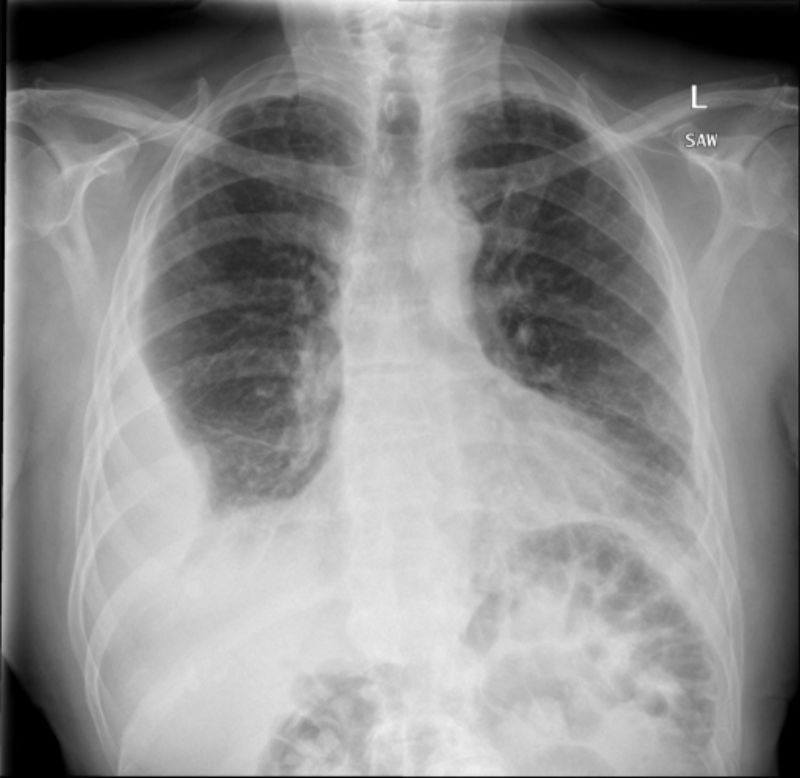Pleural Effusion: (68, 353, 209, 630)
